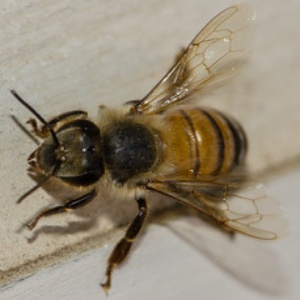bee: (9, 5, 291, 290)
